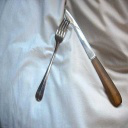fork: (37, 18, 72, 104)
